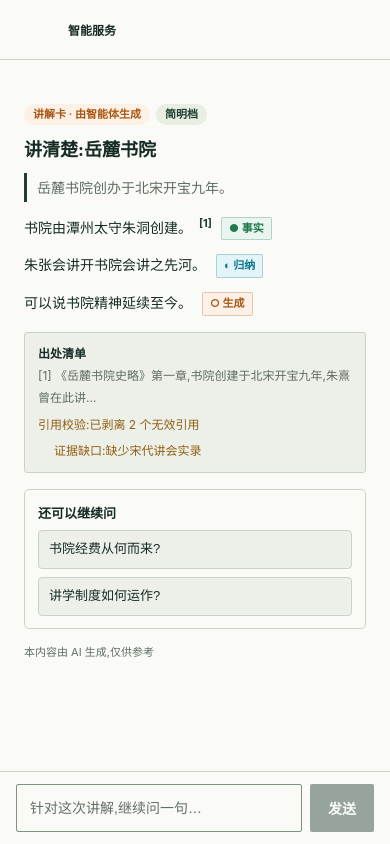
Test: RunView(执行态页,04 §7.2 RunProgress) › 还可以继续问:openQuestions 渲染可点行,点击预填追问输入框
Expected: the field with class "ask-in" is empty, [16,784,302,832]
Click the button with class "more-q" showing "书院经费从何而来?" at (105, 548), box [38,530,352,569]
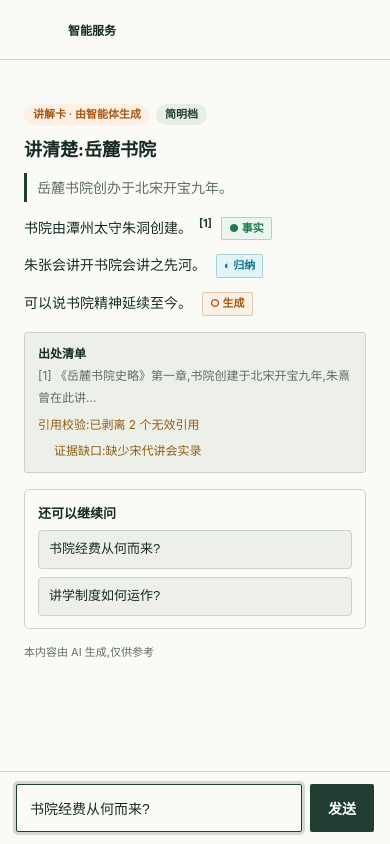
Expected: the field with class "ask-in" holds "书院经费从何而来?", [16,784,302,832]
